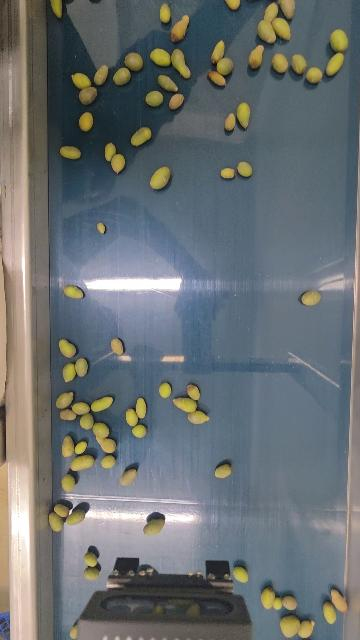Baby Potato: (169, 47, 192, 79), (149, 164, 172, 191), (170, 14, 190, 43), (279, 614, 302, 639), (325, 51, 346, 77), (256, 19, 277, 45), (130, 124, 153, 147), (329, 28, 350, 53), (272, 16, 292, 42), (247, 44, 266, 70), (330, 587, 349, 613), (236, 101, 252, 130), (69, 454, 96, 471), (173, 396, 200, 413), (143, 516, 165, 536), (150, 47, 172, 67), (321, 601, 338, 626), (124, 51, 144, 72), (157, 73, 178, 93), (78, 85, 98, 105), (278, 0, 298, 20), (216, 55, 235, 76), (58, 338, 77, 359), (271, 52, 289, 74), (291, 52, 308, 75), (187, 409, 211, 425), (112, 66, 131, 86), (55, 390, 74, 410), (65, 507, 86, 525), (301, 289, 322, 307), (59, 145, 82, 161), (91, 396, 114, 412), (71, 71, 91, 89), (305, 65, 323, 85), (260, 586, 275, 610), (96, 437, 117, 454), (299, 618, 316, 639), (93, 64, 109, 86), (61, 361, 76, 384), (211, 39, 226, 62), (60, 435, 75, 458), (119, 467, 137, 486), (144, 90, 164, 107), (207, 70, 227, 87), (78, 111, 94, 132), (48, 511, 64, 532), (264, 1, 279, 22), (61, 472, 76, 493), (111, 153, 126, 174), (63, 284, 84, 299), (93, 421, 110, 439), (214, 462, 232, 479), (74, 357, 88, 378), (185, 383, 201, 401), (237, 160, 253, 178), (233, 565, 249, 583), (168, 92, 184, 110), (159, 2, 172, 24), (49, 0, 64, 19), (124, 407, 138, 427), (104, 141, 117, 162), (79, 412, 94, 430), (71, 401, 90, 415), (135, 397, 147, 419), (224, 112, 237, 132), (281, 594, 297, 610), (110, 337, 124, 355), (158, 381, 172, 399), (54, 502, 70, 517), (59, 407, 76, 421), (220, 166, 236, 180), (74, 440, 88, 455), (101, 455, 116, 469), (132, 424, 147, 438), (84, 567, 100, 580), (84, 551, 97, 567), (272, 595, 282, 611), (225, 1, 241, 10), (69, 624, 78, 639), (96, 221, 105, 234)
